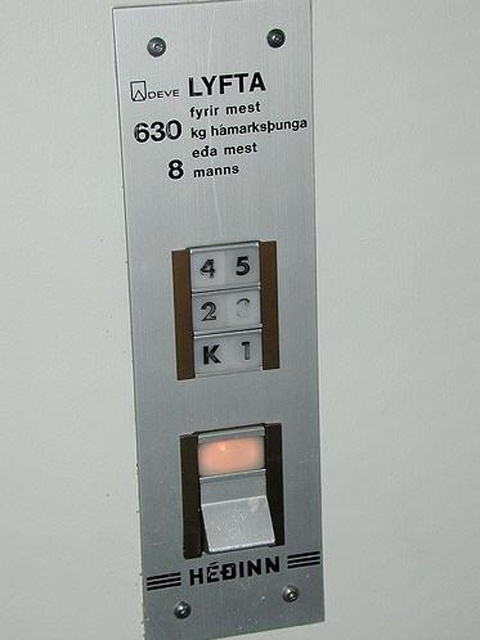1: (225, 326, 268, 374)
2: (187, 288, 230, 336)
3: (224, 283, 267, 331)
4: (186, 245, 229, 293)
5: (221, 242, 264, 290)
K: (190, 332, 233, 380)
